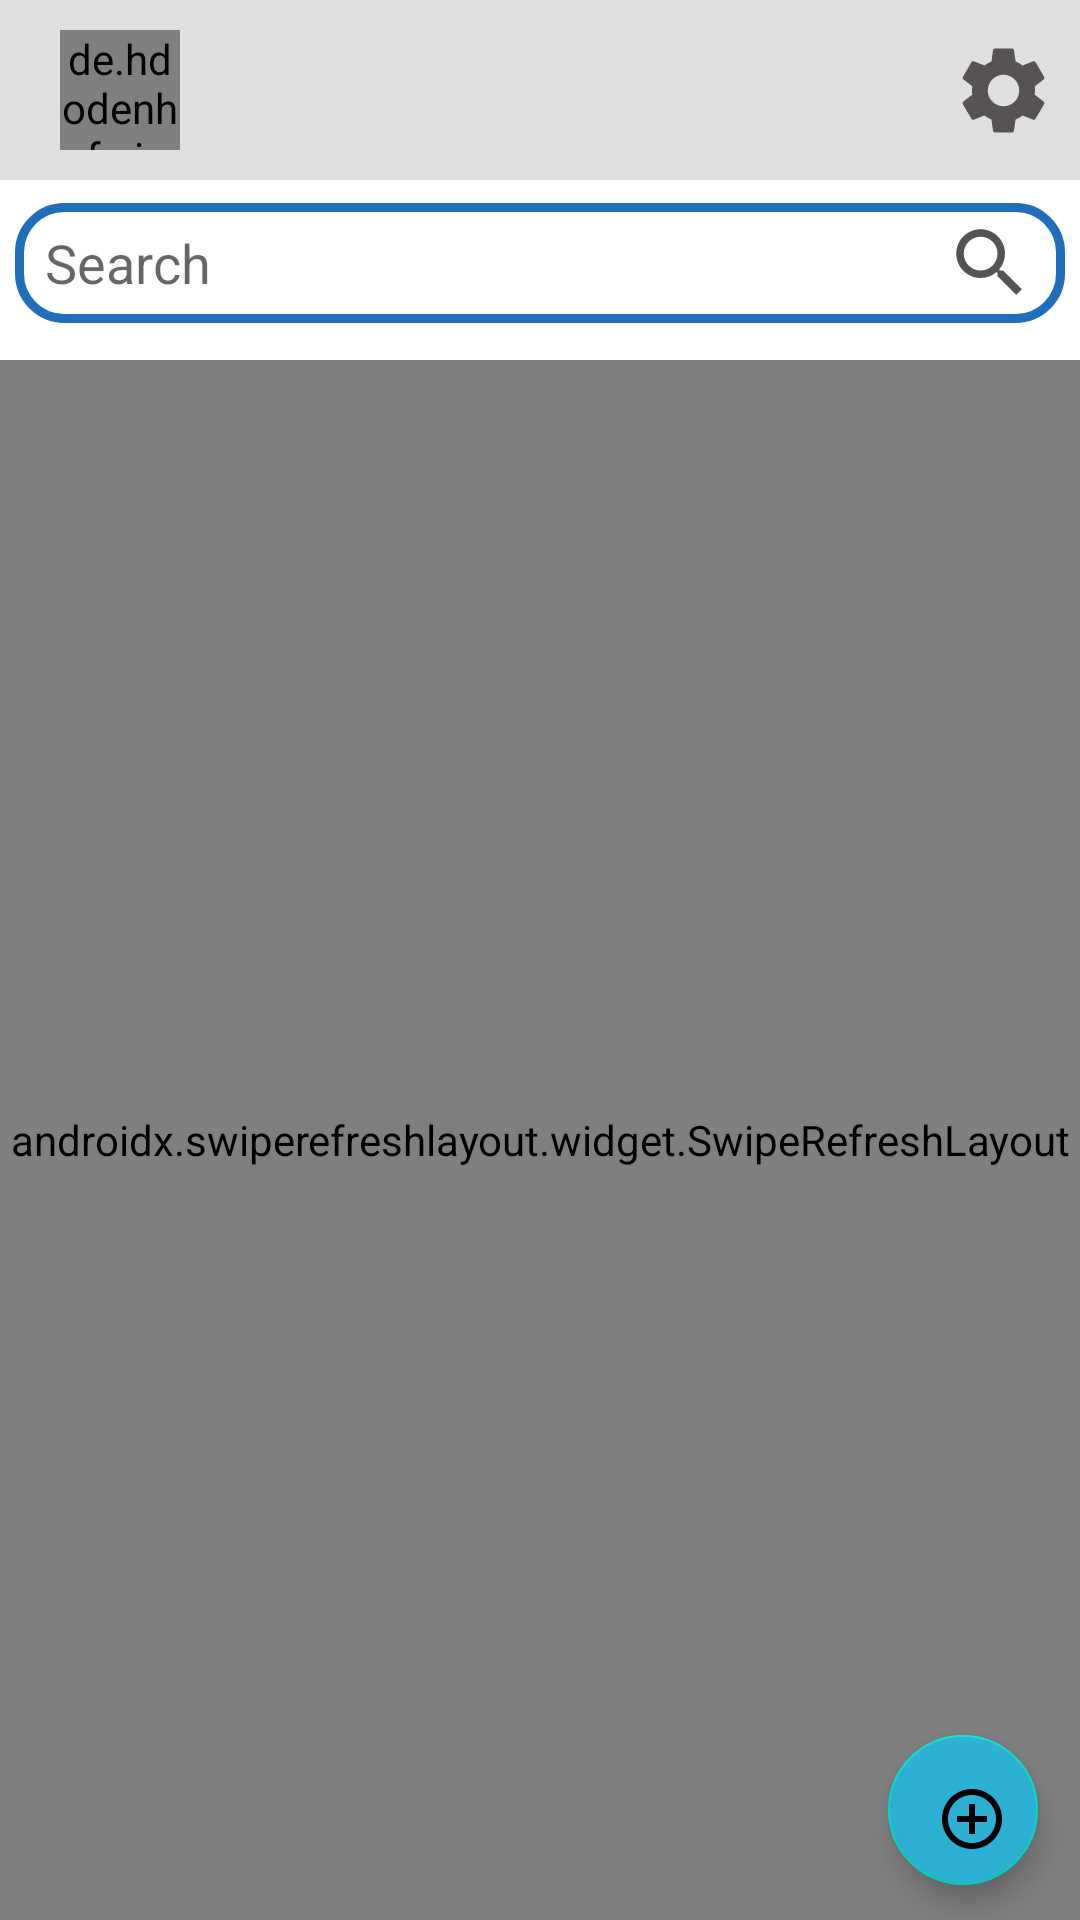

Icon bounding boxes for this 1080px x 1920px phone screenshot, format detection(x1, y1, x2, y2):
add circle: detection(888, 1735, 1038, 1885)
settings: detection(962, 48, 1045, 133)
